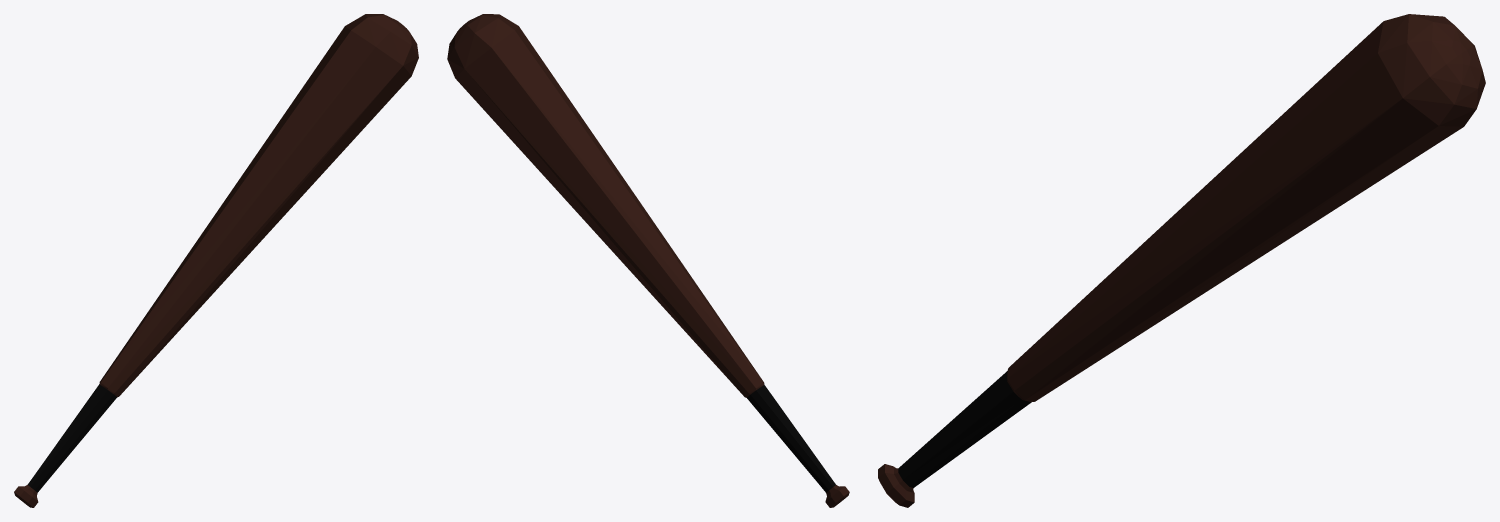
Rendered from bat.obj.
3 renders of one model, left to right at view 1: azimuth 30°, elevation 25°; view 2: azimuth 150°, elevation 25°; view 3: azimuth 330°, elevation 25°, orthographic. The views are drawn at different scales.
Parts seen in each view (by area): view 1: BaseBall_Bat_01_bat; view 2: BaseBall_Bat_01_bat; view 3: BaseBall_Bat_01_bat.
Boxes of the visible parts, box(x1,y1,x2,y2) form: BaseBall_Bat_01_bat: box(14, 14, 418, 507); BaseBall_Bat_01_bat: box(447, 14, 849, 507); BaseBall_Bat_01_bat: box(878, 14, 1485, 507).
Bounding box in the file's own units: 193 × 190 × 33.
